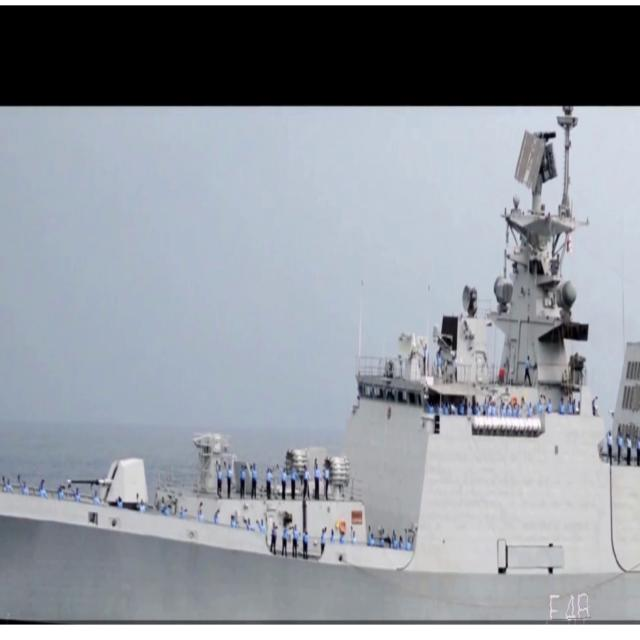OCR: (538, 585, 591, 621)
